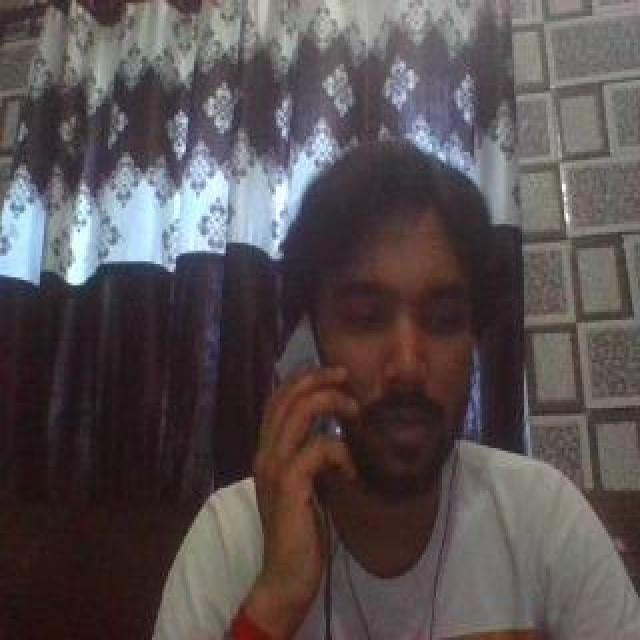phone: (271, 319, 340, 455)
